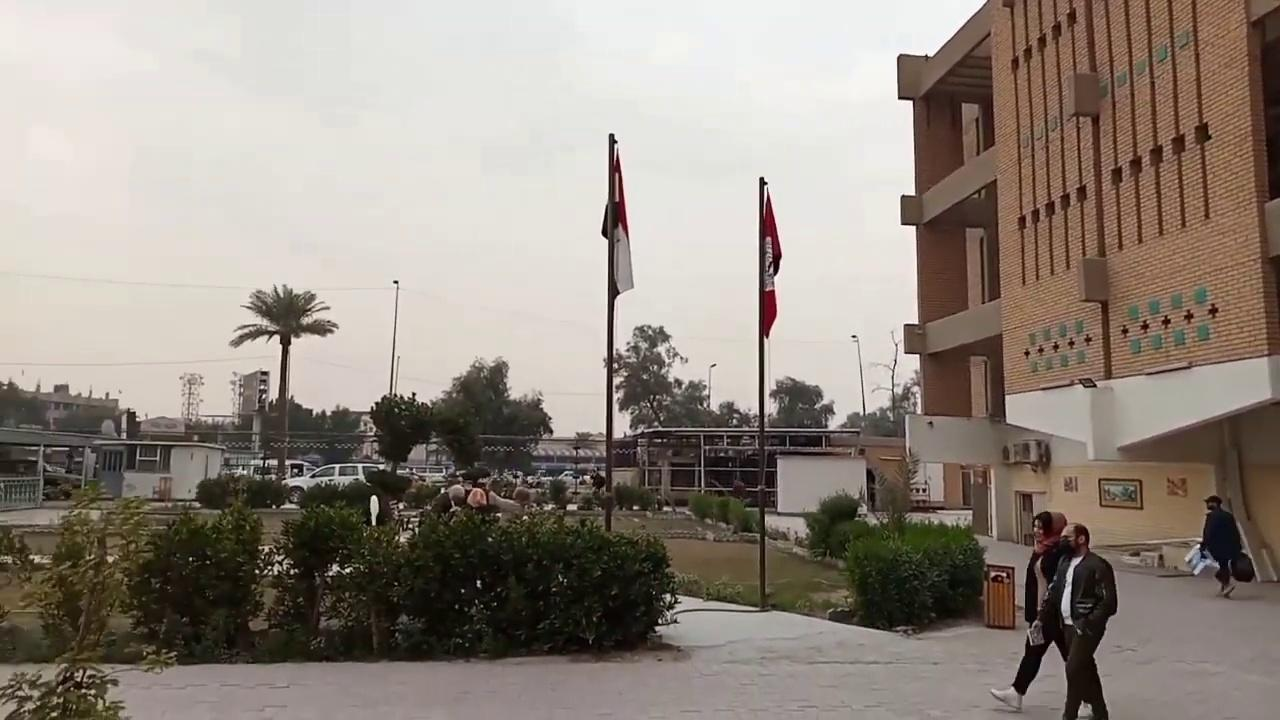car: (280, 461, 385, 505)
person: (989, 510, 1093, 713), (1038, 523, 1118, 719), (1199, 494, 1241, 599)
tree: (0, 478, 177, 718), (124, 497, 270, 661), (228, 282, 337, 480), (431, 354, 553, 476), (266, 497, 367, 644), (603, 322, 693, 432), (367, 391, 434, 472), (804, 488, 865, 559), (431, 400, 483, 472), (869, 445, 920, 516), (768, 375, 826, 428), (178, 371, 204, 424), (716, 399, 739, 427)
